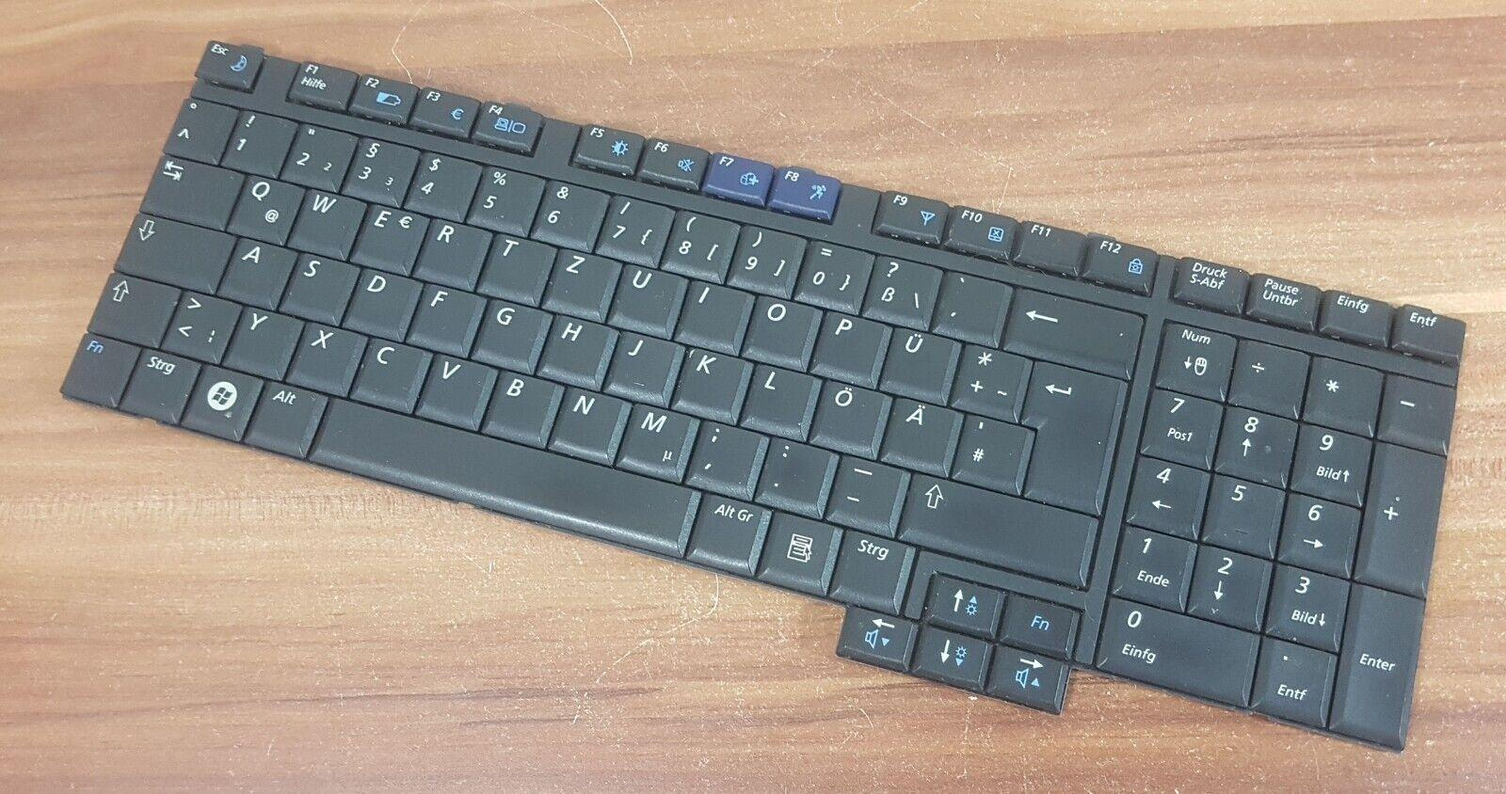0: (792, 235, 873, 308)
1: (220, 105, 293, 172)
2: (279, 120, 353, 186)
3: (340, 134, 415, 200)
4: (404, 148, 477, 215)
5: (464, 162, 542, 230)
6: (529, 177, 607, 246)
7: (595, 191, 672, 261)
8: (658, 207, 737, 277)
9: (725, 221, 804, 292)
a: (216, 236, 295, 304)
accent: (931, 265, 1009, 340)
ae: (877, 395, 961, 470)
alt-left: (244, 378, 327, 454)
altgr-right: (685, 491, 770, 570)
b: (478, 367, 561, 441)
c: (347, 337, 429, 408)
caret: (160, 94, 232, 161)
comma: (682, 417, 765, 492)
d: (340, 266, 420, 336)
del: (1001, 283, 1143, 372)
e: (347, 202, 427, 270)
enter: (1020, 357, 1124, 514)
f: (405, 280, 483, 351)
g: (469, 297, 548, 367)
h: (534, 312, 616, 383)
hash: (950, 410, 1032, 490)
i: (673, 277, 751, 346)
j: (602, 329, 681, 399)
k: (669, 344, 751, 417)
keyboard: (43, 29, 1477, 770)
l: (738, 360, 818, 436)
less: (159, 288, 238, 358)
m: (614, 400, 695, 475)
minus: (823, 452, 906, 528)
n: (546, 384, 626, 457)
o: (738, 293, 819, 363)
oe: (808, 378, 889, 451)
p: (808, 307, 889, 380)
plus: (949, 340, 1029, 415)
point: (752, 434, 834, 507)
q: (225, 174, 301, 240)
r: (411, 216, 490, 284)
s: (277, 251, 355, 321)
shift-left: (85, 272, 177, 344)
shift-lock: (113, 213, 234, 290)
shift-right: (899, 471, 1098, 585)
space: (307, 392, 696, 551)
ss: (860, 250, 940, 324)
strg-left: (119, 347, 199, 419)
strg-right: (827, 527, 913, 608)
t: (475, 231, 554, 299)
tab: (137, 154, 242, 226)
u: (605, 261, 685, 331)
ue: (876, 324, 959, 399)
v: (414, 352, 495, 424)
w: (286, 187, 363, 254)
x: (285, 320, 363, 390)
y: (223, 305, 301, 374)
z: (539, 246, 620, 314)
